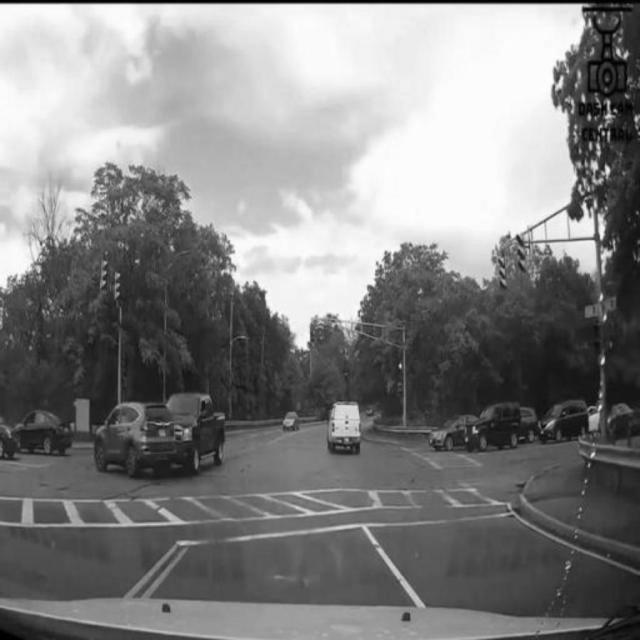accident: (100, 393, 234, 476)
vehicle: (469, 402, 526, 450), (325, 396, 369, 458), (12, 414, 70, 454), (540, 402, 588, 446), (432, 410, 482, 448), (279, 408, 304, 434)
